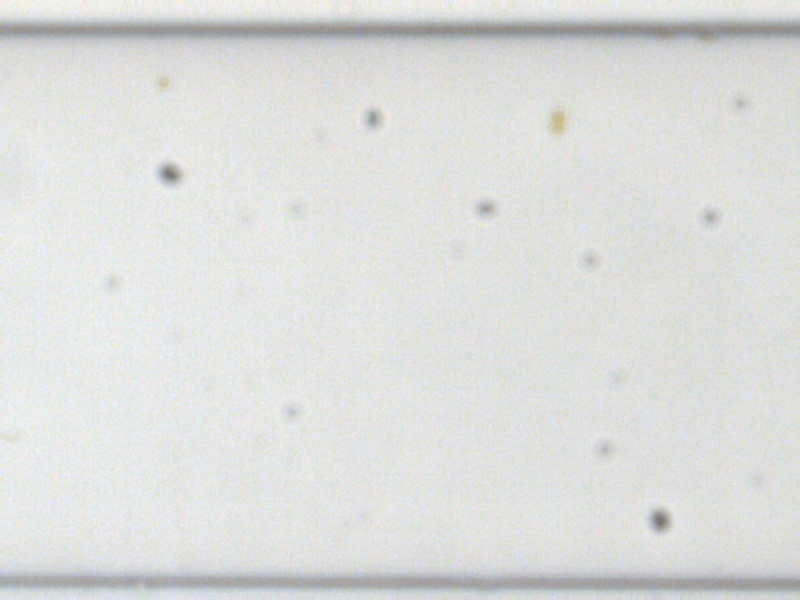Chlorella: (155, 73, 170, 89), (549, 108, 564, 122), (551, 122, 564, 132)
